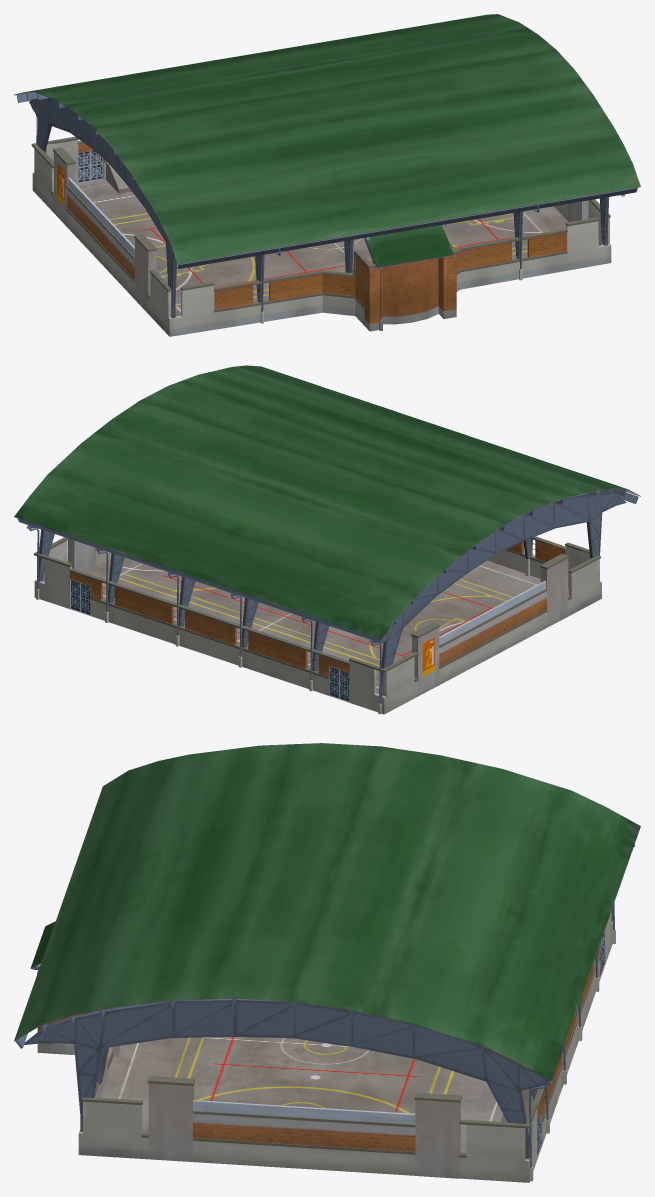
Rendered from BLQ21_Coliseo.fbx.
The picture shows the model from 3 angles, top to bottom: view 1: azimuth 30°, elevation 25°; view 2: azimuth 150°, elevation 25°; view 3: azimuth 270°, elevation 25°; orthographic projection. The views are drawn at different scales.
Visible parts, largest first — view 1: Techo_G.001, Alrededor_Coliseo.001, Suelo.001, Vigas Interior.003, Canaleta_Techo_Low.001, Techitos_Trasero.001, Techo_P.001, Bloque Blanco.001, Techitos_Lateral.001, Puertas.001, Vaya_Lado.001; view 2: Techo_G.001, Alrededor_Coliseo.001, Suelo.001, Vigas Interior.003, Bloque Blanco.001, Techitos_Frente.001, Canaleta_Techo_Low.001, Techitos_Lateral.001, Puertas.001, Vaya_Lado.001; view 3: Techo_G.001, Suelo.001, Alrededor_Coliseo.001, Vigas Interior.003, Bloque Blanco.001, Techitos_Lateral.001, Vaya_Lado.001.
Boxes of the visible parts, x1,y1,x2,y2 form: Techo_G.001: (14,14,640,264); Alrededor_Coliseo.001: (32,140,611,336); Suelo.001: (77,179,568,316); Vigas Interior.003: (29,98,625,318); Canaleta_Techo_Low.001: (16,92,637,268); Techitos_Trasero.001: (181,217,599,312); Techo_P.001: (366,225,453,267); Bloque Blanco.001: (54,152,588,313); Techitos_Lateral.001: (31,136,610,298); Puertas.001: (78,150,103,183); Vaya_Lado.001: (68,177,134,256); Techo_G.001: (14,365,640,639); Alrededor_Coliseo.001: (34,540,601,714); Suelo.001: (70,557,568,703); Vigas Interior.003: (26,492,626,697); Bloque Blanco.001: (68,539,568,696); Techitos_Frente.001: (69,568,349,678); Canaleta_Techo_Low.001: (17,489,638,643); Techitos_Lateral.001: (34,537,600,681); Puertas.001: (70,579,349,701); Vaya_Lado.001: (439,580,546,645); Techo_G.001: (14,743,640,1081); Suelo.001: (102,952,609,1167); Alrededor_Coliseo.001: (37,911,612,1182); Vigas Interior.003: (24,844,635,1159); Bloque Blanco.001: (148,1083,460,1178); Techitos_Lateral.001: (82,1076,537,1157); Vaya_Lado.001: (193,1100,415,1124).
Size of the model in its own units: 3994 by 1122 by 3671.
